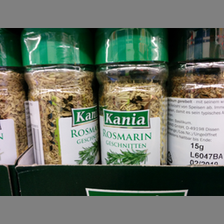spices: (19, 28, 99, 164), (95, 29, 167, 165), (168, 29, 224, 167)
